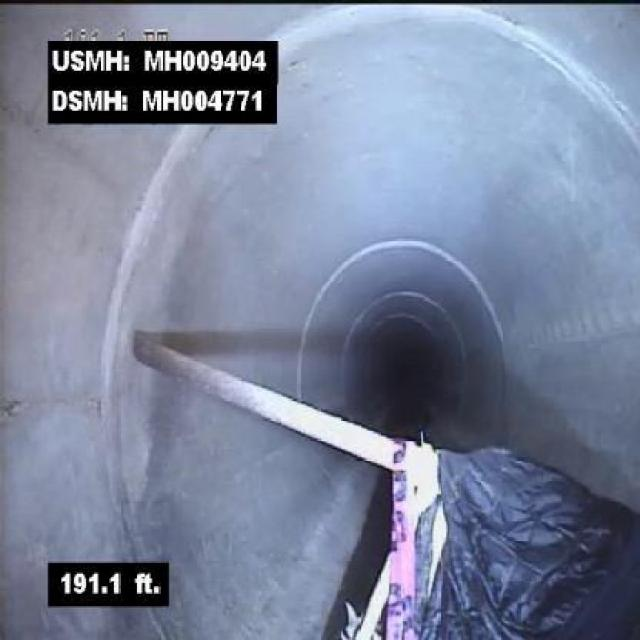Utility intrusion: (130, 328, 396, 478)
